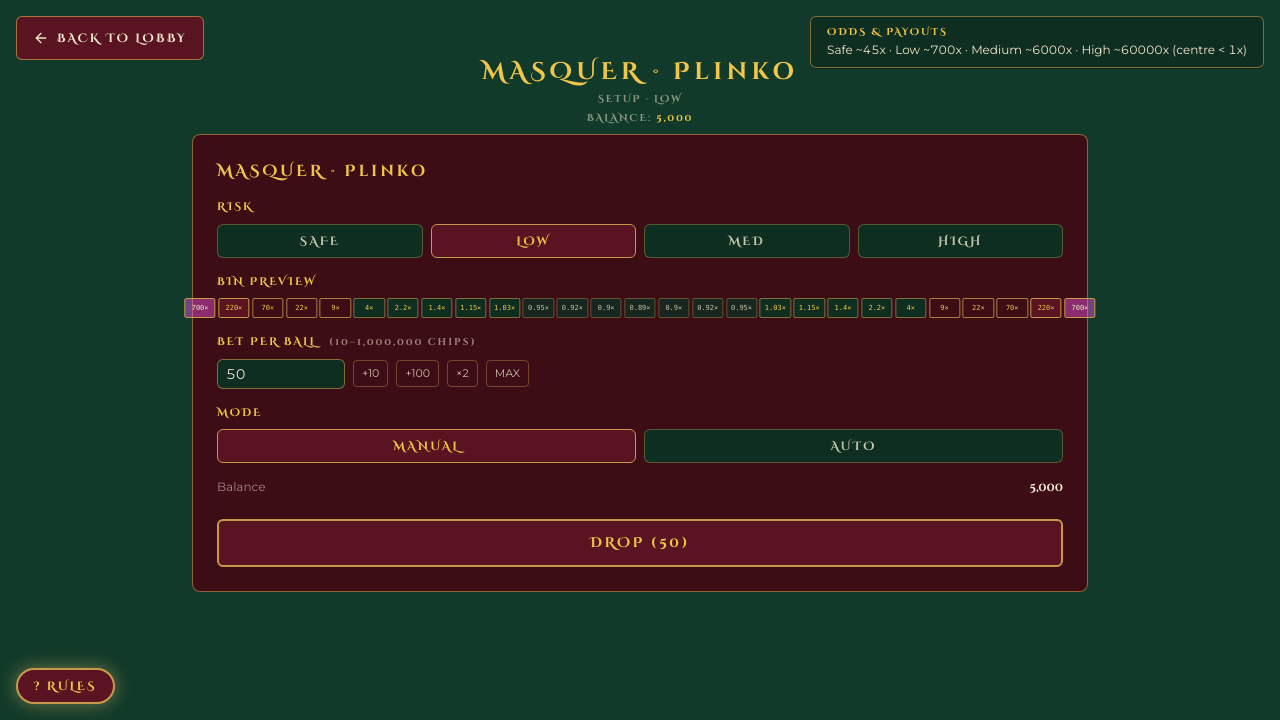
Test: PlinkoPage › switching to auto reveals balls + interval pickers
The width and height of the screenshot is (1280, 720).
Step 1. Click the radio button labelled "AUTO" → (854, 446), box x1=644 y1=429 x2=1063 y2=463
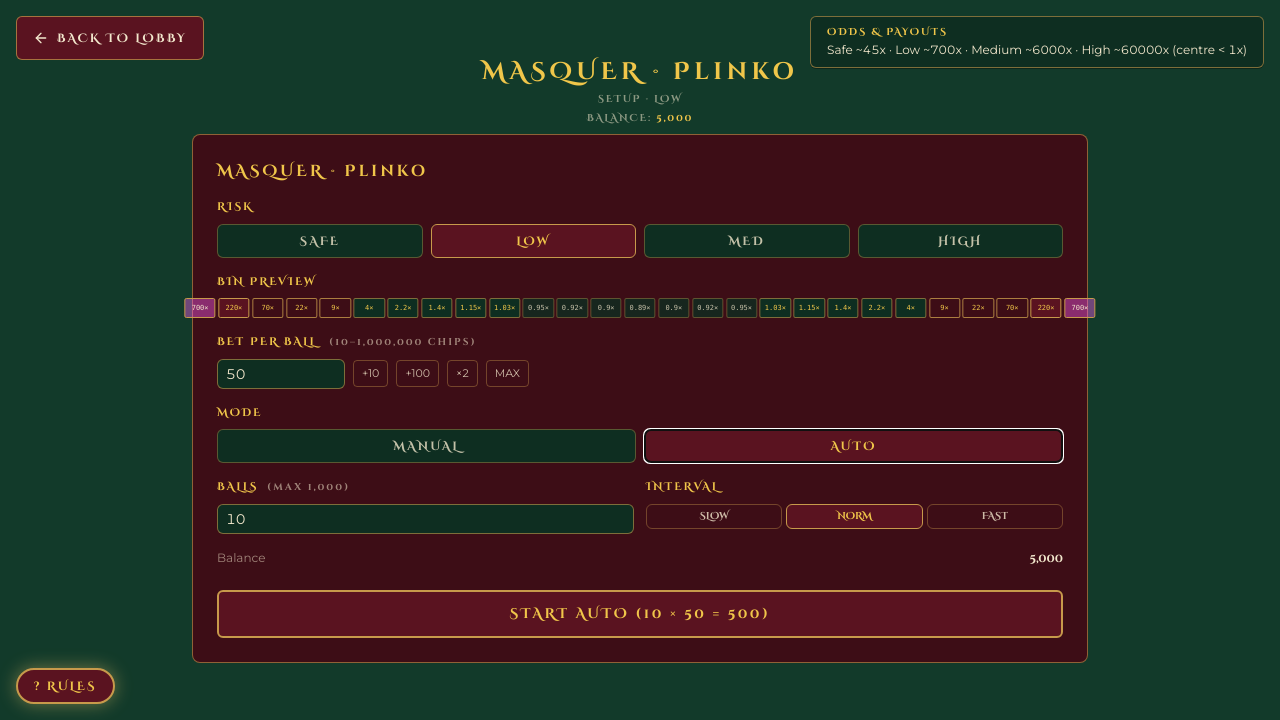
Check: the element named "Auto interval" is shown, box x1=646 y1=504 x2=1063 y2=528
